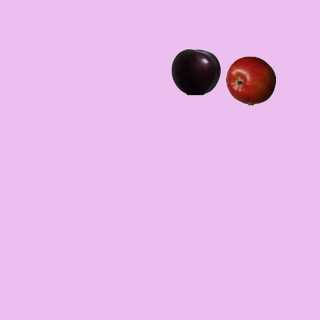Apple Braeburn: (225, 55, 275, 105)
Cherry Wax Black: (170, 46, 220, 96)
